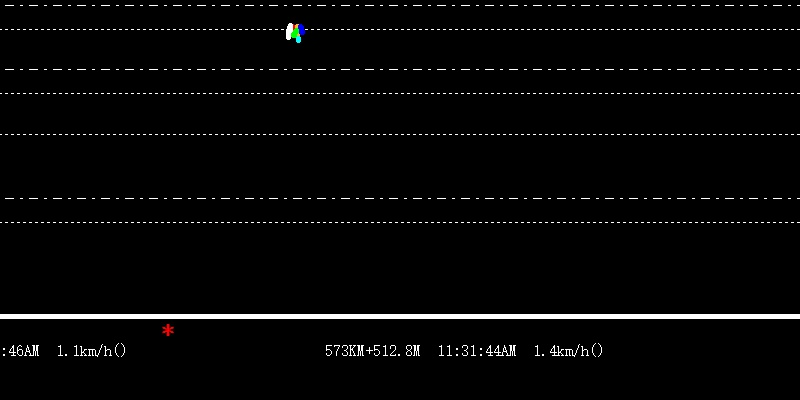face_2: (282, 21, 305, 43)
star: (161, 320, 176, 337)
